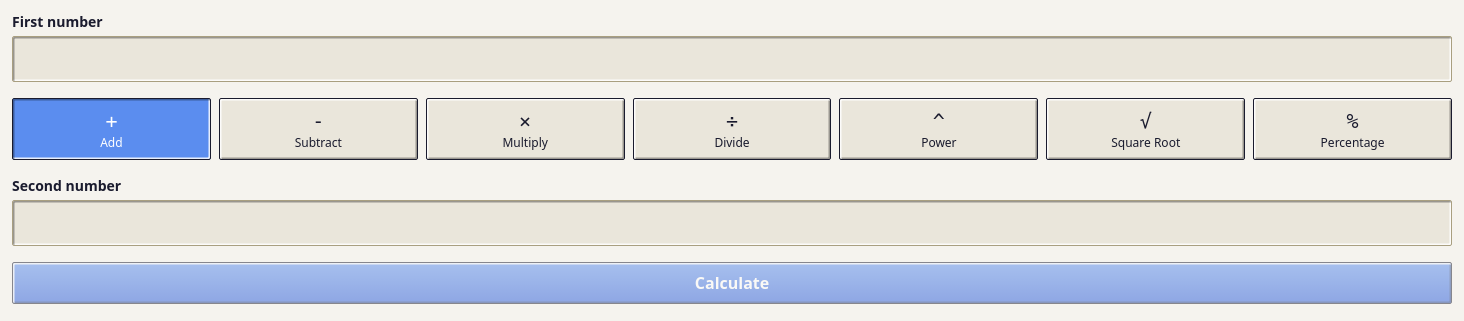
Test: Calculator › operations with one number › sends only one number and shows the result
Click the radio button labelled "Square Root": (1146, 129) [1046,98,1245,160]
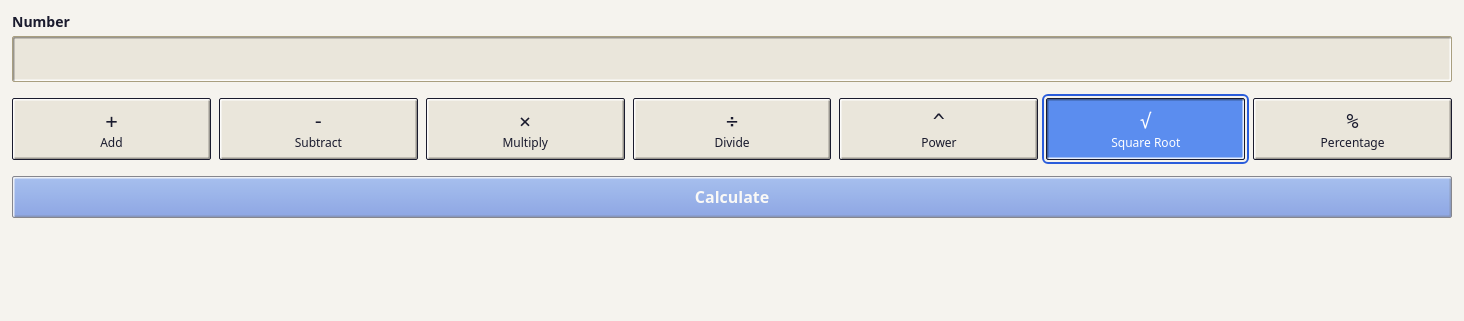
In the field labelled "Number": (732, 59) [12,36,1452,82], type "16"
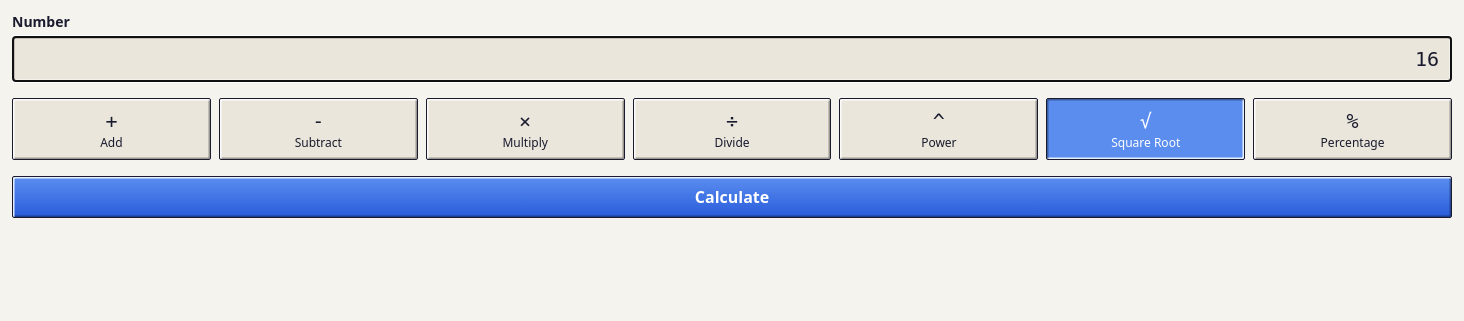
Click the button "Calculate": (732, 197) [12,176,1452,218]
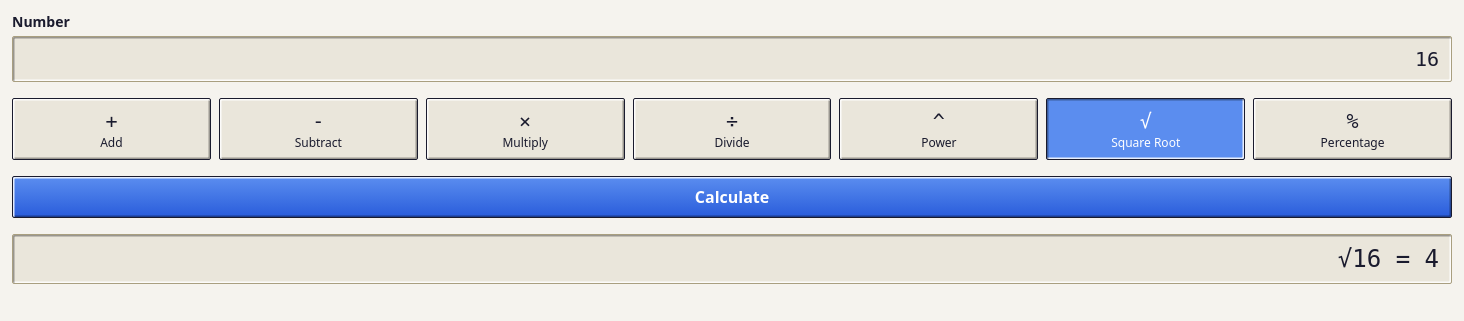
Expected: the message reads "√16 = 4", [1338,245,1439,273]
